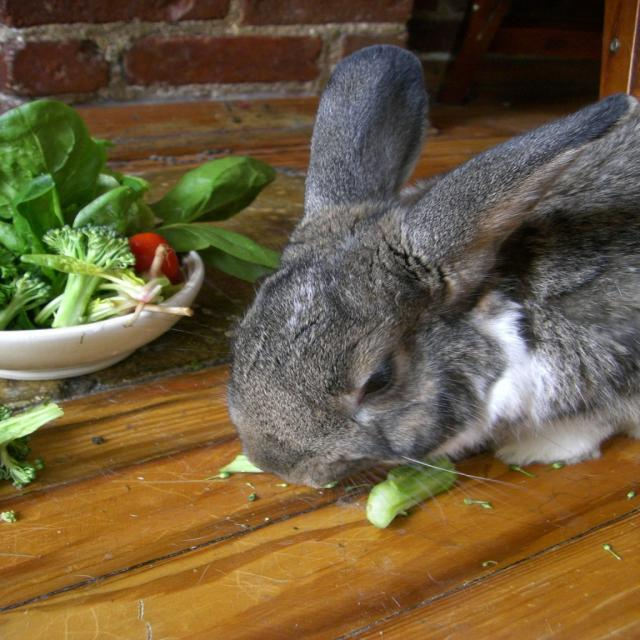Salad: (0, 94, 290, 328)
